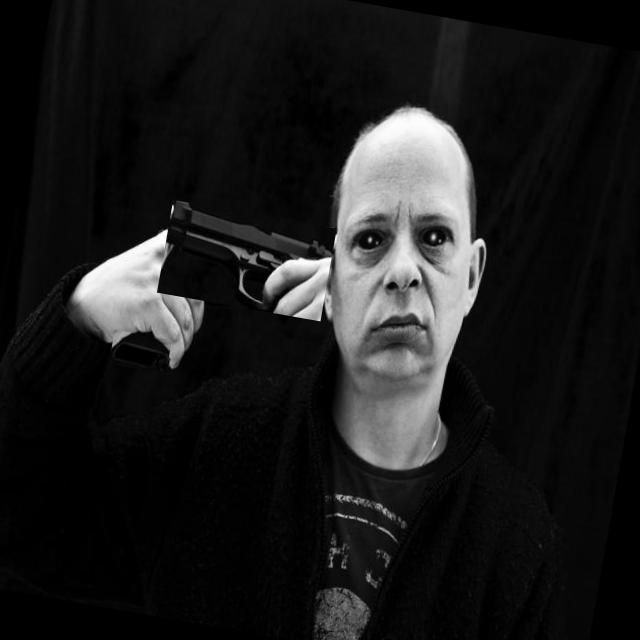Gun: (166, 201, 331, 311), (111, 333, 169, 371)
